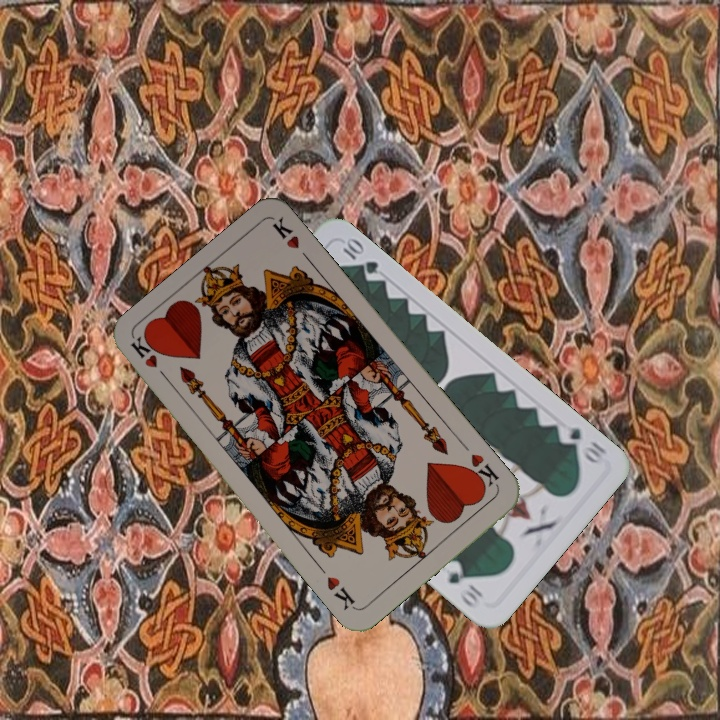G10: (553, 419, 609, 467)
HK: (126, 333, 173, 385), (462, 449, 502, 493)
